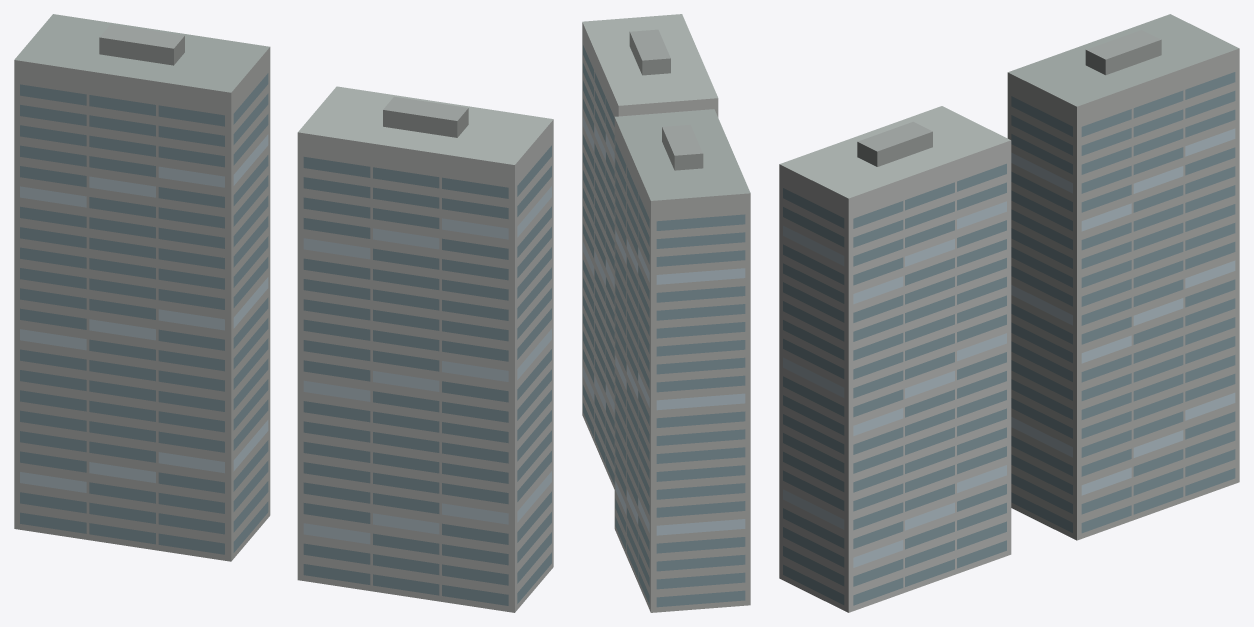
File: apt-a10024751.glb
The picture shows the model from 3 angles, left to right: view 1: azimuth 30°, elevation 25°; view 2: azimuth 150°, elevation 25°; view 3: azimuth 270°, elevation 25°; orthographic projection. The views are drawn at different scales.
Visible parts, largest first — view 1: apt-a10024751; view 2: apt-a10024751; view 3: apt-a10024751.
Boxes of the visible parts, box(x1,y1,x2,y2) form: apt-a10024751: box(14, 14, 553, 612); apt-a10024751: box(582, 14, 750, 612); apt-a10024751: box(779, 14, 1239, 612).
Size of the model in its own units: 54.34 by 69 by 64.01.
